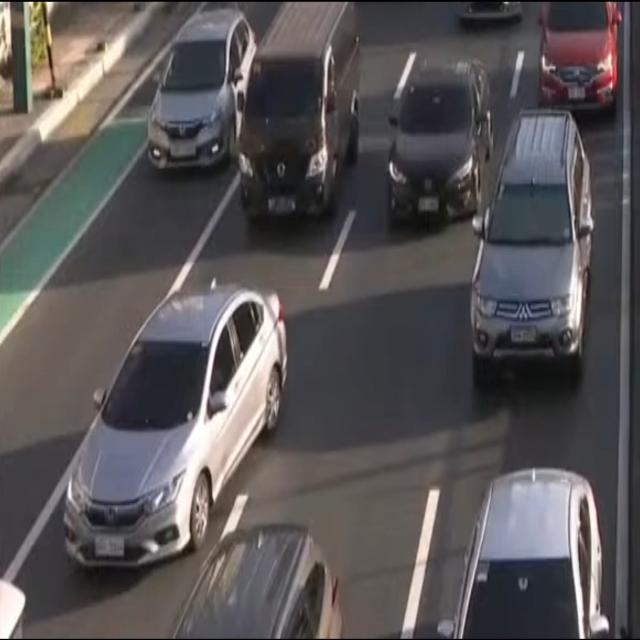SUV: (471, 111, 593, 383), (168, 529, 346, 640)
Sedan: (58, 281, 292, 579), (462, 462, 607, 640), (386, 62, 496, 240), (144, 6, 253, 175)
Van: (240, 0, 368, 233)
